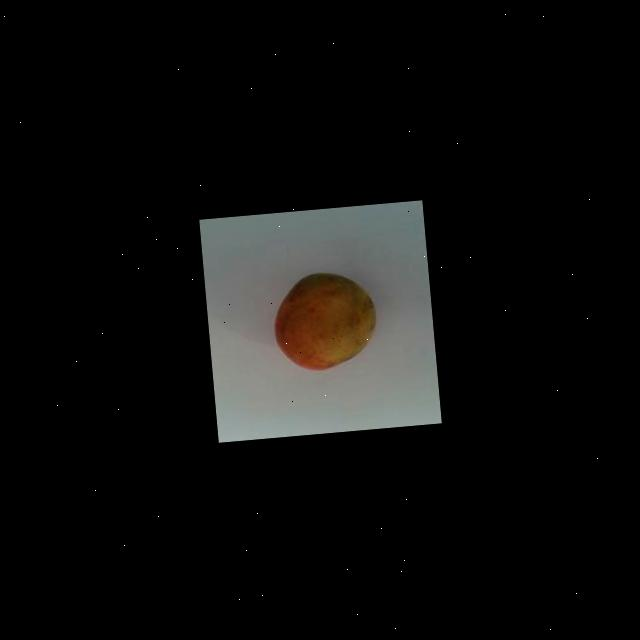Mango: (268, 266, 379, 372)
